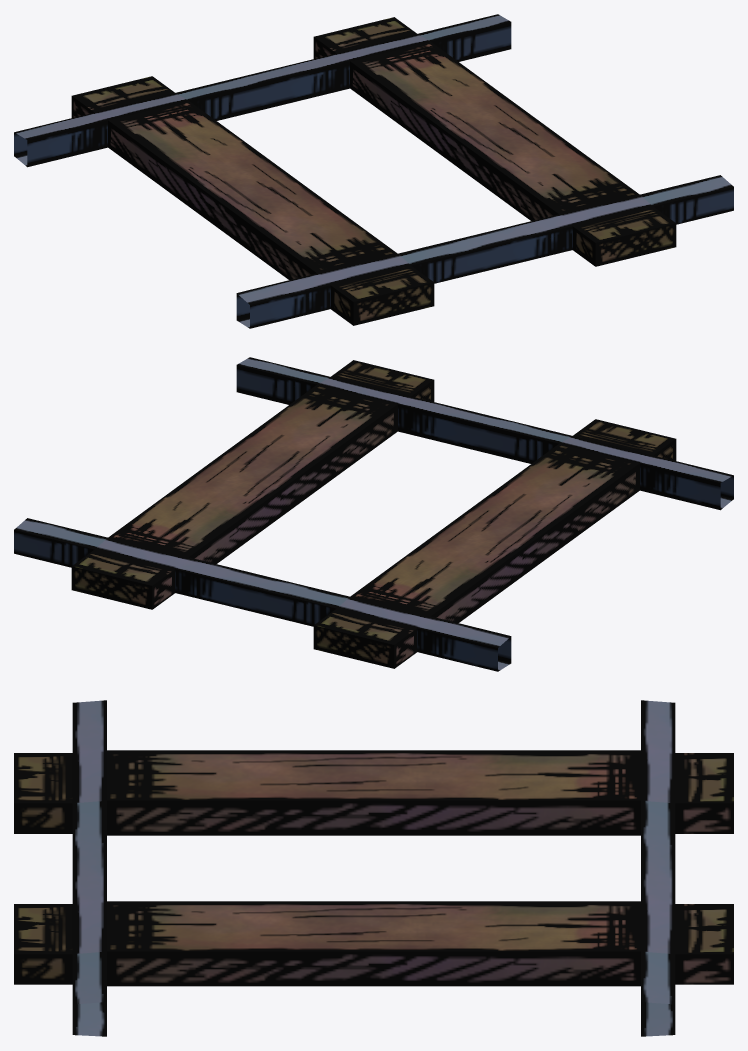
File: 2_track.fbx
3 views of the same model, one above another, from view 1: azimuth 30°, elevation 25°; view 2: azimuth 150°, elevation 25°; view 3: azimuth 270°, elevation 25° (orthographic). The views are drawn at different scales.
Visible parts, largest first — view 1: 2_track; view 2: 2_track; view 3: 2_track.
Part boxes in pixels (bbox=[...]): 2_track: bbox=[14, 14, 733, 328]; 2_track: bbox=[14, 357, 733, 671]; 2_track: bbox=[14, 700, 733, 1036].
Size of the model in its own units: 510 by 27.44 by 514.
